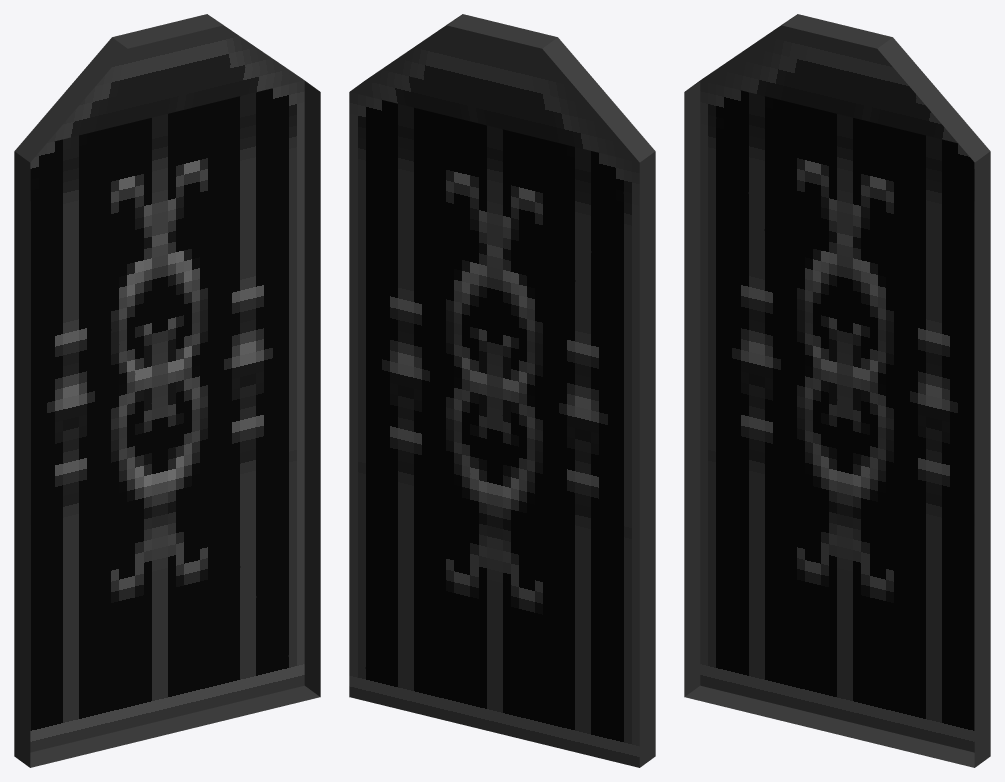
3 renders of one model, left to right at view 1: azimuth 30°, elevation 25°; view 2: azimuth 150°, elevation 25°; view 3: azimuth 330°, elevation 25°, orthographic.
Parts seen in each view (by area): view 1: prim086-Box02; view 2: prim086-Box02; view 3: prim086-Box02.
Part boxes in pixels (box(x1,y1,x2,y2)): prim086-Box02: box(14, 14, 320, 767); prim086-Box02: box(349, 14, 655, 767); prim086-Box02: box(684, 14, 990, 767).
Size of the model in its own units: 128 by 293 by 12.
1 material, 1 textured.
